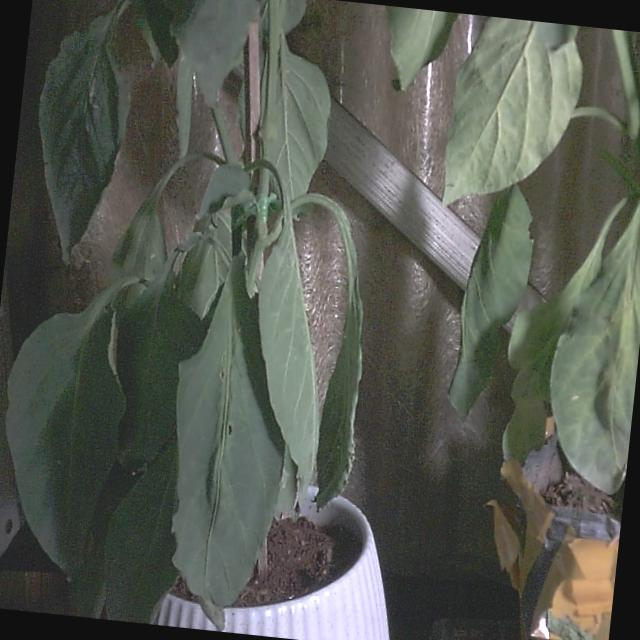Leaf: (173, 255, 284, 607), (6, 281, 125, 573), (444, 18, 582, 203), (551, 204, 639, 493), (39, 10, 129, 262), (449, 186, 532, 414), (259, 212, 319, 498), (386, 6, 457, 90)
